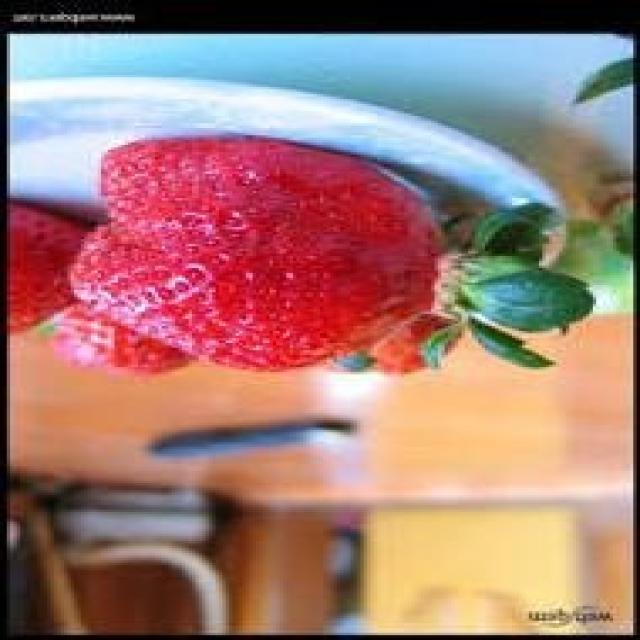mature: (65, 135, 446, 372)
